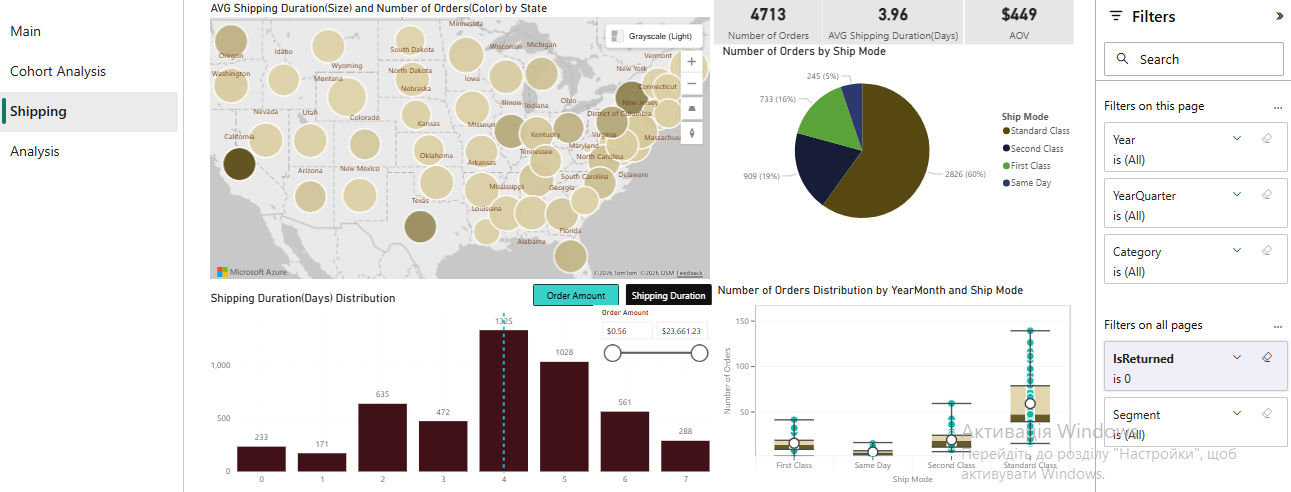

This screenshot's page, from the dashboard's own definition file:
{"tool":"powerbi","page":{"name":"Shipping","canvas":[1280,720],"ordinal":3},"visuals":[{"type":"azureMap","title":"AVG Shipping Duration(Size) and Number of Orders(Color) by State","fields":{"Size":["_Mesures.AVG Shipping Duration"],"Category":["Orders.State"]},"box":[10.9,6.5,736.2,410],"z":0},{"type":"clusteredColumnChart","title":"Shipping Duration(Days) Distribution","fields":{"Category":["Orders.Shipping Duration (bins)"],"Y":["CountNonNull(Orders.Shipping Duration (bins))"]},"box":[10.9,427.4,736.2,292.5],"z":1000},{"type":"pieChart","fields":{"Category":["Orders.Ship Mode"],"Y":["_Mesures.Number of Orders"]},"box":[755.4,68.4,524.6,291.4],"z":2000},{"type":"BoxandWhiskerByMAQ1823AD39DT234AB532063E128AX","title":"Number of Orders Distribution by YearMonth and Ship Mode","fields":{"measure":["_Mesures.Number of Orders"],"categoryGroup":["Orders.Ship Mode"],"category":["DimDate.YearMonth"]},"box":[747.1,416.5,525.3,303.4],"z":3000},{"type":"card","fields":{"Values":["_Mesures.Number of Orders"]},"box":[755.8,0,167.5,68.5],"z":4000},{"type":"card","fields":{"Values":["_Mesures.Number of Orders"]},"box":[747.1,0,158,68.5],"z":5000},{"type":"card","fields":{"Values":["_Mesures.AVG Shipping Duration"]},"box":[906.6,0,204.5,68.5],"z":6000},{"type":"card","fields":{"Values":["Avg(Orders.Order Amount)"]},"box":[1112.5,0,158,68.5],"z":7000},{"type":"bookmarkNavigator","box":[484.1,416.8,260,32],"z":9000},{"type":"slicer","fields":{"Values":["Orders.Order Amount"]},"box":[571.1,448.6,175.9,86.4],"z":10000}]}

Visuals, with their boxes on the page's 1280x720 design canvas (x1, y1, x2, y2). These are canvas units, not pixel positions in the 1291x492 screenshot, which may show the page scaled, cropped or inside an application window:
"AVG Shipping Duration(Size) and Number of Orders(Color) by State" azureMap: detection(11, 6, 747, 416)
"Shipping Duration(Days) Distribution" clusteredColumnChart: detection(11, 427, 747, 720)
pieChart - Orders.Ship Mode x _Mesures.Number of Orders: detection(755, 68, 1280, 360)
"Number of Orders Distribution by YearMonth and Ship Mode" BoxandWhiskerByMAQ1823AD39DT234AB532063E128AX: detection(747, 416, 1272, 720)
card - _Mesures.Number of Orders: detection(756, 0, 923, 68)
card - _Mesures.Number of Orders: detection(747, 0, 905, 68)
card - _Mesures.AVG Shipping Duration: detection(907, 0, 1111, 68)
card - Avg(Orders.Order Amount): detection(1112, 0, 1270, 68)
bookmarkNavigator: detection(484, 417, 744, 449)
slicer - Orders.Order Amount: detection(571, 449, 747, 535)
